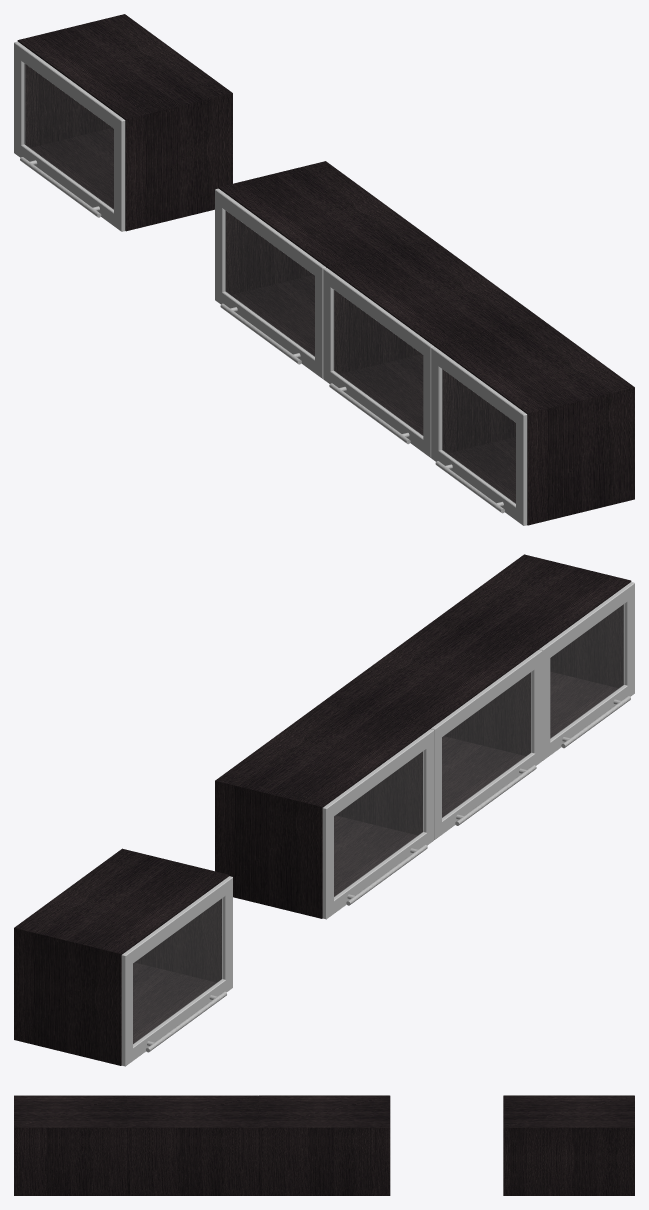
Rendered from Kitchen Furniture 2.FBX.
3 renders of one model, top to bottom at view 1: azimuth 30°, elevation 25°; view 2: azimuth 150°, elevation 25°; view 3: azimuth 270°, elevation 25°, orthographic. The views are drawn at different scales.
Parts seen in each view (by area): view 1: Kitchen Furniture 2; view 2: Kitchen Furniture 2; view 3: Kitchen Furniture 2.
Part boxes in pixels (x1,y1,x2,y2): Kitchen Furniture 2: (14, 14, 634, 525); Kitchen Furniture 2: (14, 554, 634, 1066); Kitchen Furniture 2: (14, 1095, 634, 1195).
Bounding box in the file's own units: 45.96 × 40.87 × 337.
